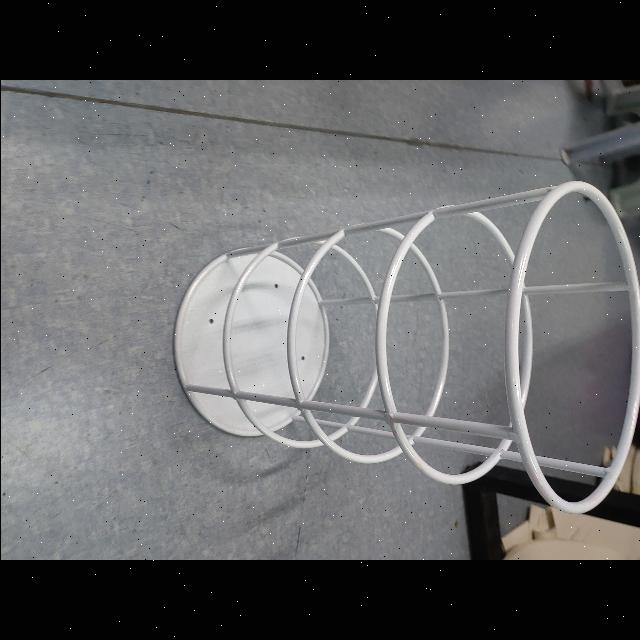S: (166, 174, 640, 518)
